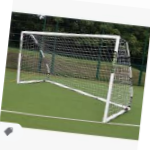goals: (15, 28, 135, 123)
